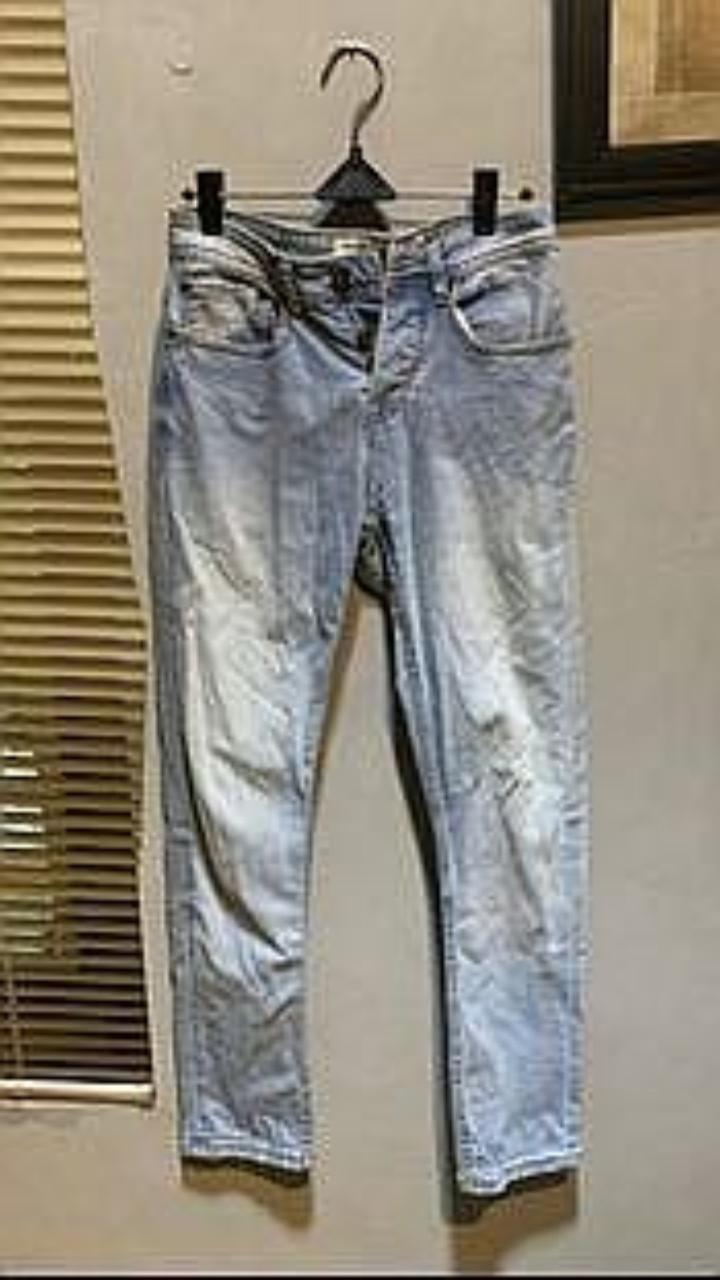Jeans: (149, 204, 586, 1193)
